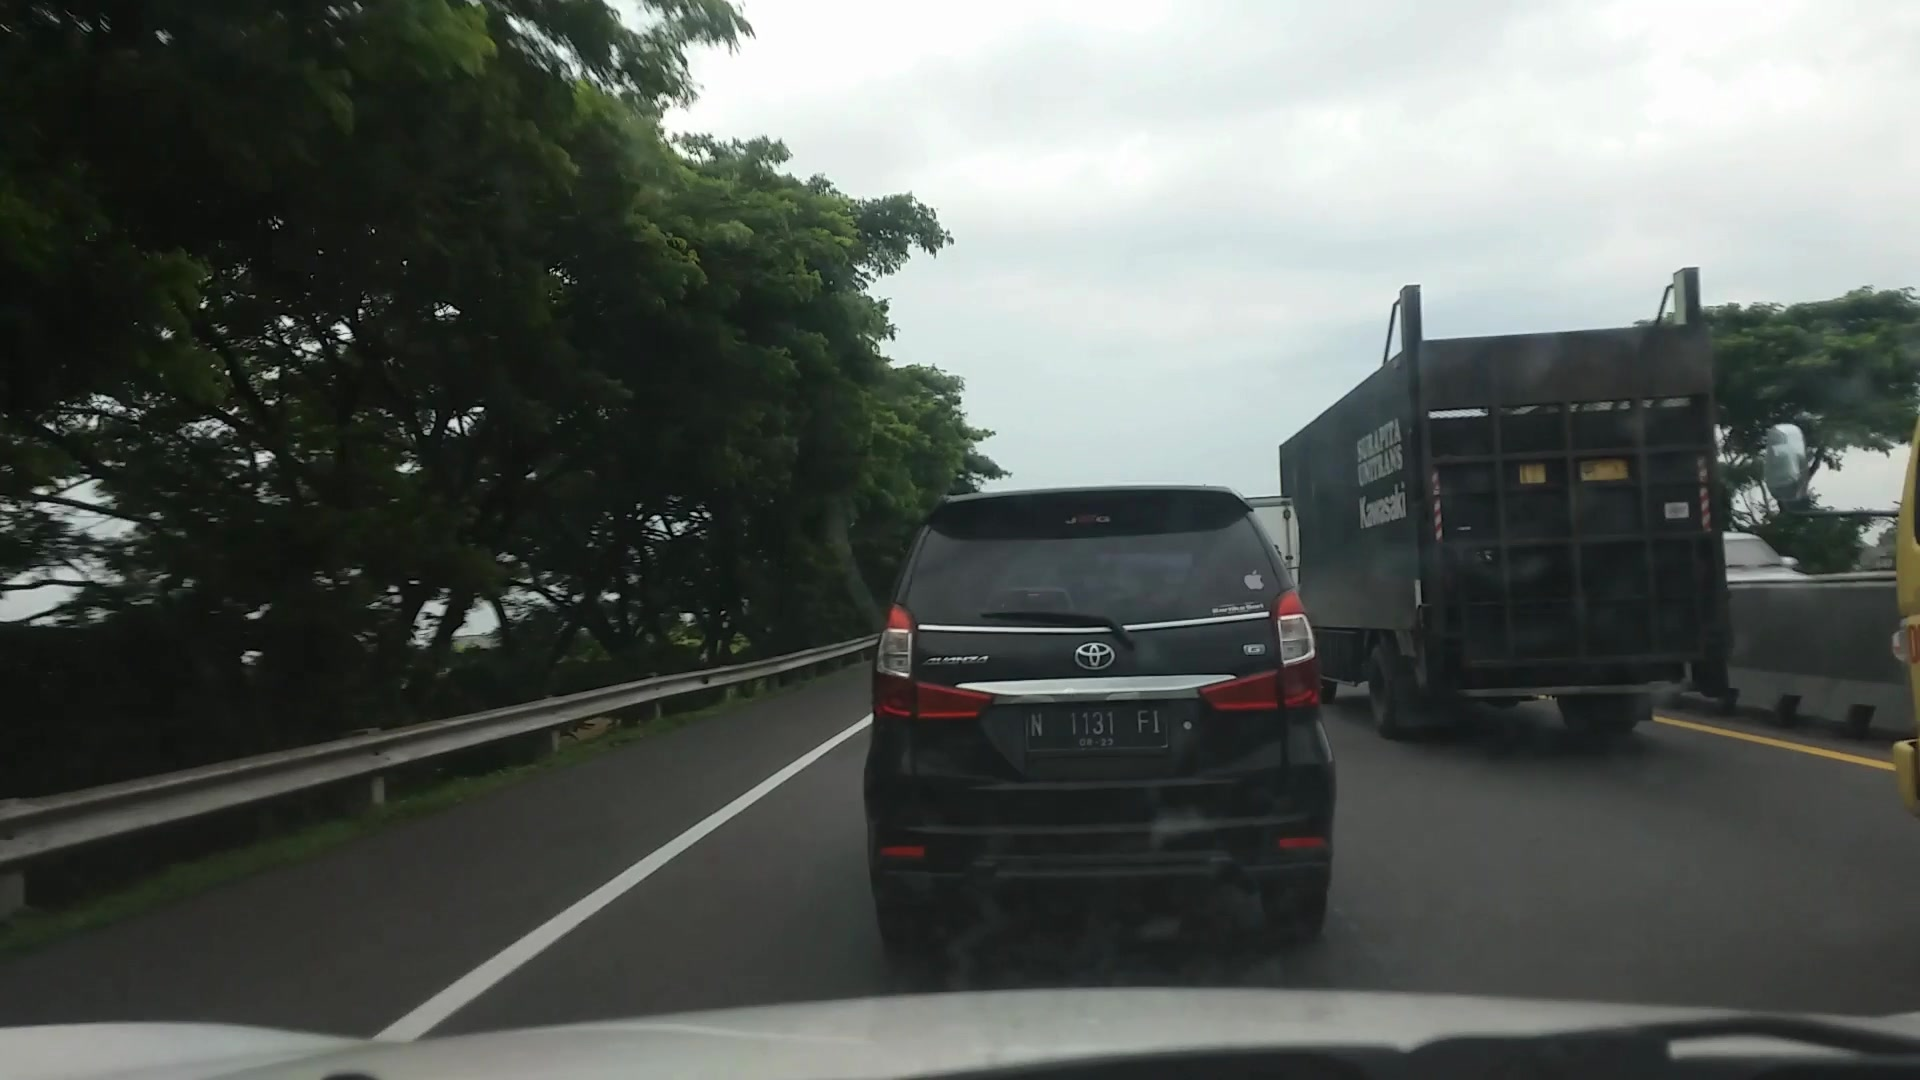plate_positive: (1027, 704, 1168, 749)
